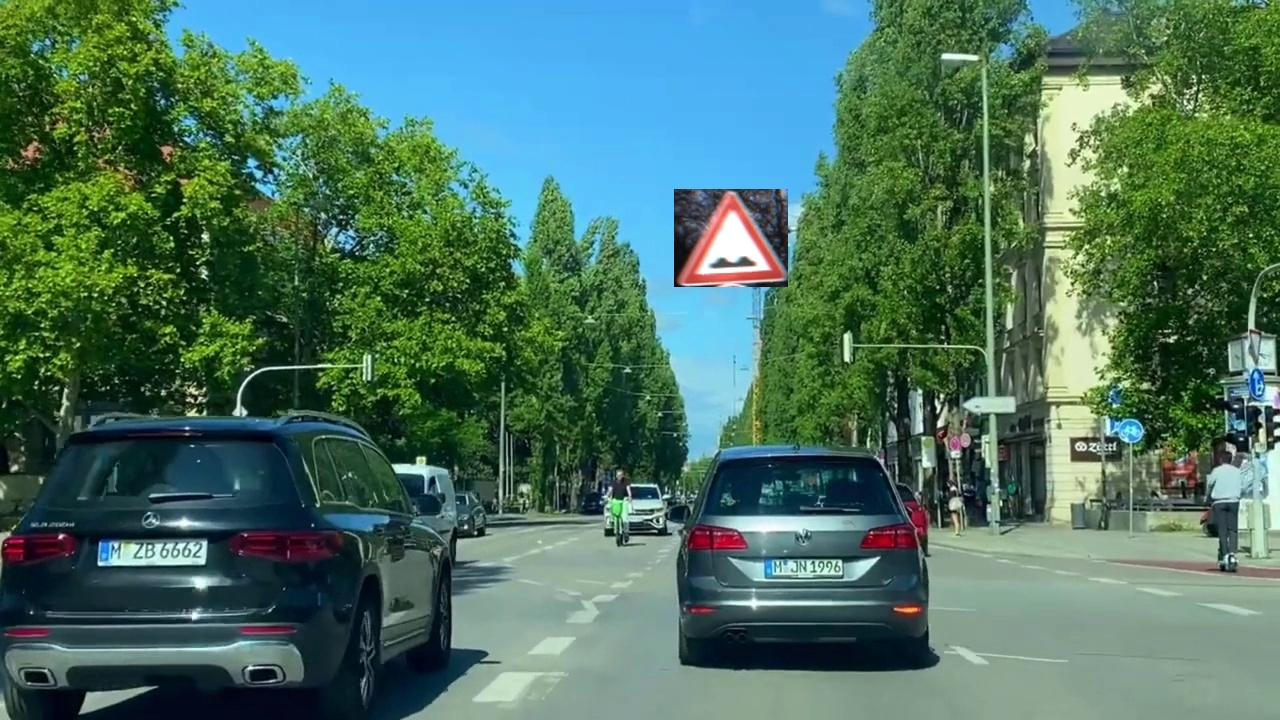Bumpy road: (674, 189, 788, 287)
